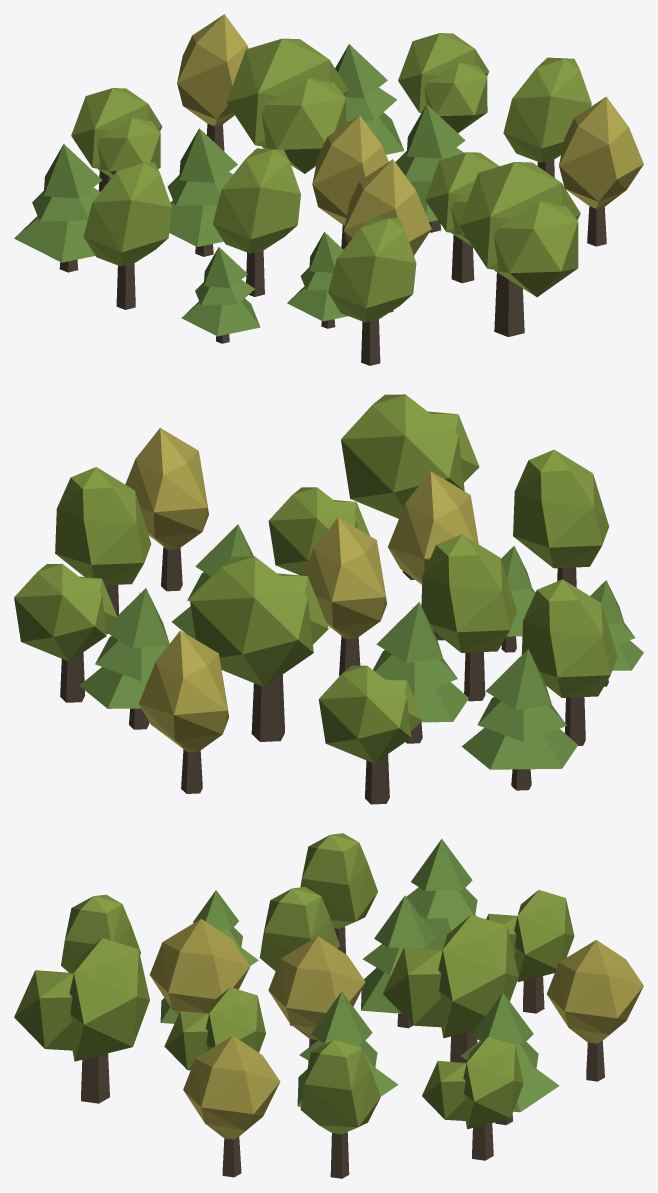
Rendered from lowpoly_forest.glb.
3 views of the same model, one above another, from view 1: azimuth 30°, elevation 25°; view 2: azimuth 150°, elevation 25°; view 3: azimuth 270°, elevation 25° (orthographic). The views are drawn at different scales.
Parts seen in each view (by area): view 1: Tree1.004, Tree1, Tree4.002, Tree4.003, Tree4.001, Tree2.002, Tree1.002, Tree4, Tree1.003, Tree3.004, Tree2.003, Tree3.001 (+7 smaller); view 2: Tree1, Tree1.004, Tree4.001, Tree4.003, Tree4.002, Tree4, Tree3.004, Tree2.003, Tree1.003, Tree1.002, Tree2.002, Tree2.001 (+7 smaller); view 3: Tree1.004, Tree1, Tree2.003, Tree2.002, Tree1.002, Tree4, Tree2, Tree2.001, Tree1.003, Tree4.003, Tree1.001, Tree3.004 (+6 smaller).
Part boxes in pixels (x1=…): Tree1.004: x1=459, y1=162, x2=580, y2=336; Tree1: x1=226, y1=38, x2=348, y2=173; Tree4.002: x1=328, y1=217, x2=416, y2=365; Tree4.003: x1=83, y1=161, x2=171, y2=309; Tree4.001: x1=212, y1=148, x2=300, y2=296; Tree2.002: x1=559, y1=96, x2=643, y2=246; Tree1.002: x1=398, y1=33, x2=489, y2=132; Tree4: x1=503, y1=57, x2=591, y2=177; Tree1.003: x1=71, y1=88, x2=162, y2=191; Tree3.004: x1=14, y1=144, x2=102, y2=272; Tree2.003: x1=177, y1=14, x2=248, y2=150; Tree3.001: x1=167, y1=128, x2=237, y2=256; Tree1: x1=190, y1=556, x2=328, y2=741; Tree1.004: x1=341, y1=394, x2=479, y2=580; Tree4.001: x1=421, y1=534, x2=516, y2=701; Tree4.003: x1=522, y1=579, x2=617, y2=745; Tree4.002: x1=513, y1=449, x2=609, y2=587; Tree4: x1=55, y1=467, x2=151, y2=633; Tree3.004: x1=462, y1=649, x2=577, y2=790; Tree2.003: x1=139, y1=630, x2=229, y2=793; Tree1.003: x1=318, y1=665, x2=422, y2=804; Tree1.002: x1=14, y1=563, x2=116, y2=702; Tree2.002: x1=125, y1=428, x2=208, y2=591; Tree2.001: x1=302, y1=517, x2=386, y2=675; Tree1.004: x1=14, y1=938, x2=149, y2=1103; Tree1: x1=383, y1=915, x2=518, y2=1062; Tree2.003: x1=547, y1=940, x2=643, y2=1081; Tree2.002: x1=183, y1=1035, x2=280, y2=1177; Tree1.002: x1=422, y1=1037, x2=523, y2=1160; Tree4: x1=300, y1=1038, x2=380, y2=1178; Tree2: x1=149, y1=919, x2=250, y2=1014; Tree2.001: x1=268, y1=936, x2=365, y2=1065; Tree1.003: x1=486, y1=890, x2=574, y2=1013; Tree4.003: x1=300, y1=833, x2=377, y2=953; Tree1.001: x1=164, y1=987, x2=265, y2=1070; Tree3.004: x1=399, y1=839, x2=477, y2=949.
Bounding box in the file's own units: 12.04 × 3.7 × 12.81.
Materials: 16 (16 with a texture image).
